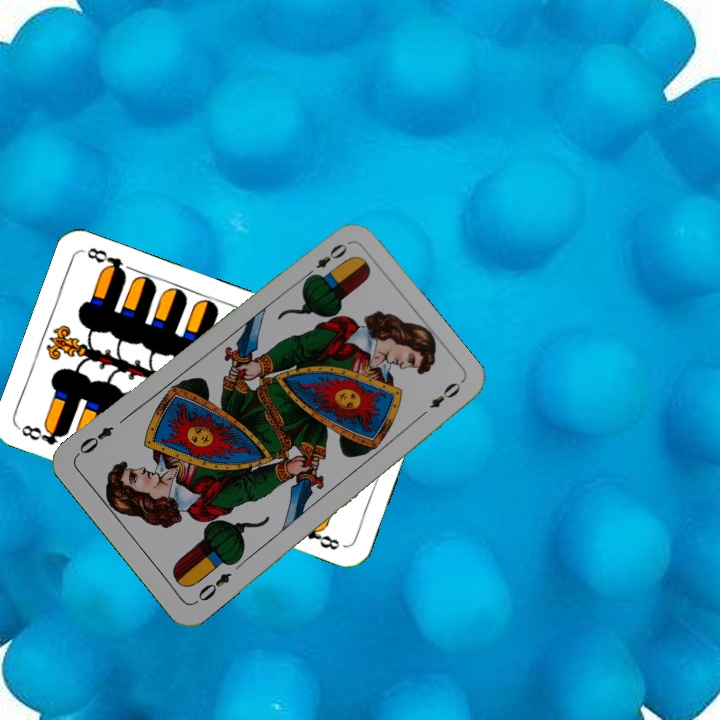E8: (16, 420, 71, 448)
EO: (300, 239, 350, 282), (191, 568, 234, 607)
